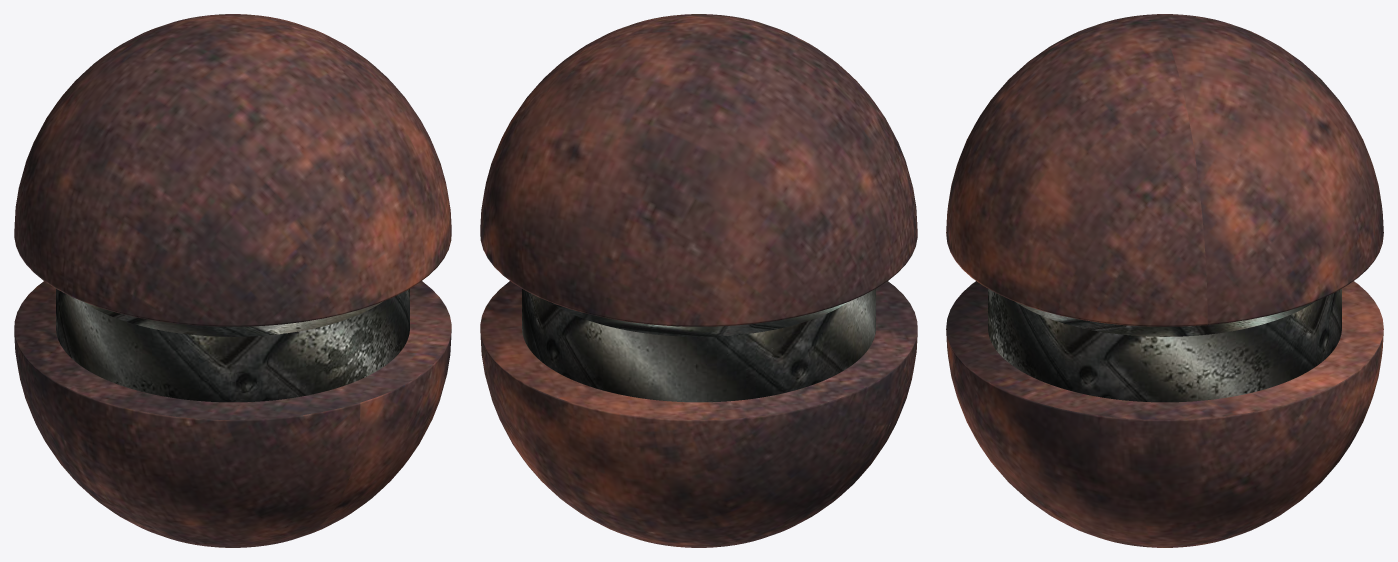
File: droid_anim_000020.obj
3 views of the same model, side by side, from view 1: azimuth 30°, elevation 25°; view 2: azimuth 150°, elevation 25°; view 3: azimuth 270°, elevation 25° (orthographic).
Visible parts, largest first — view 1: Sphere.004, Sphere.005, Cylinder.002; view 2: Sphere.004, Sphere.005, Cylinder.002; view 3: Sphere.004, Sphere.005, Cylinder.002.
Part boxes in pixels (x1,y1,x2,y2): Sphere.004: [14, 14, 451, 326]; Sphere.005: [14, 281, 451, 547]; Cylinder.002: [56, 289, 409, 402]; Sphere.004: [480, 14, 917, 326]; Sphere.005: [480, 281, 917, 547]; Cylinder.002: [522, 289, 875, 402]; Sphere.004: [946, 14, 1383, 326]; Sphere.005: [946, 281, 1383, 547]; Cylinder.002: [988, 289, 1341, 402].
Size of the model in its own units: 2 by 2.49 by 2.
3 materials, 3 textured.
